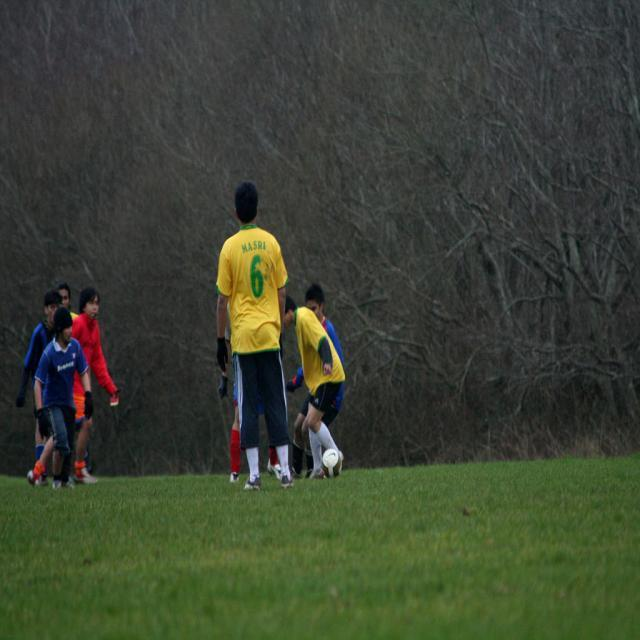football: (314, 448, 347, 471)
